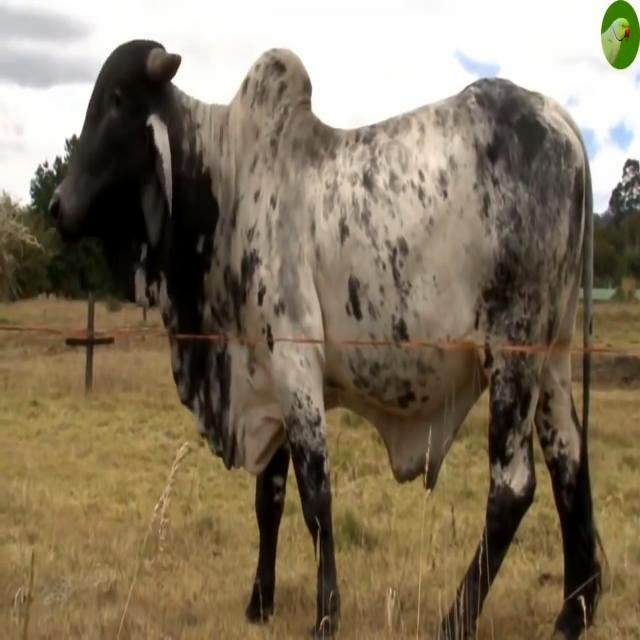COW: (52, 40, 600, 640)
